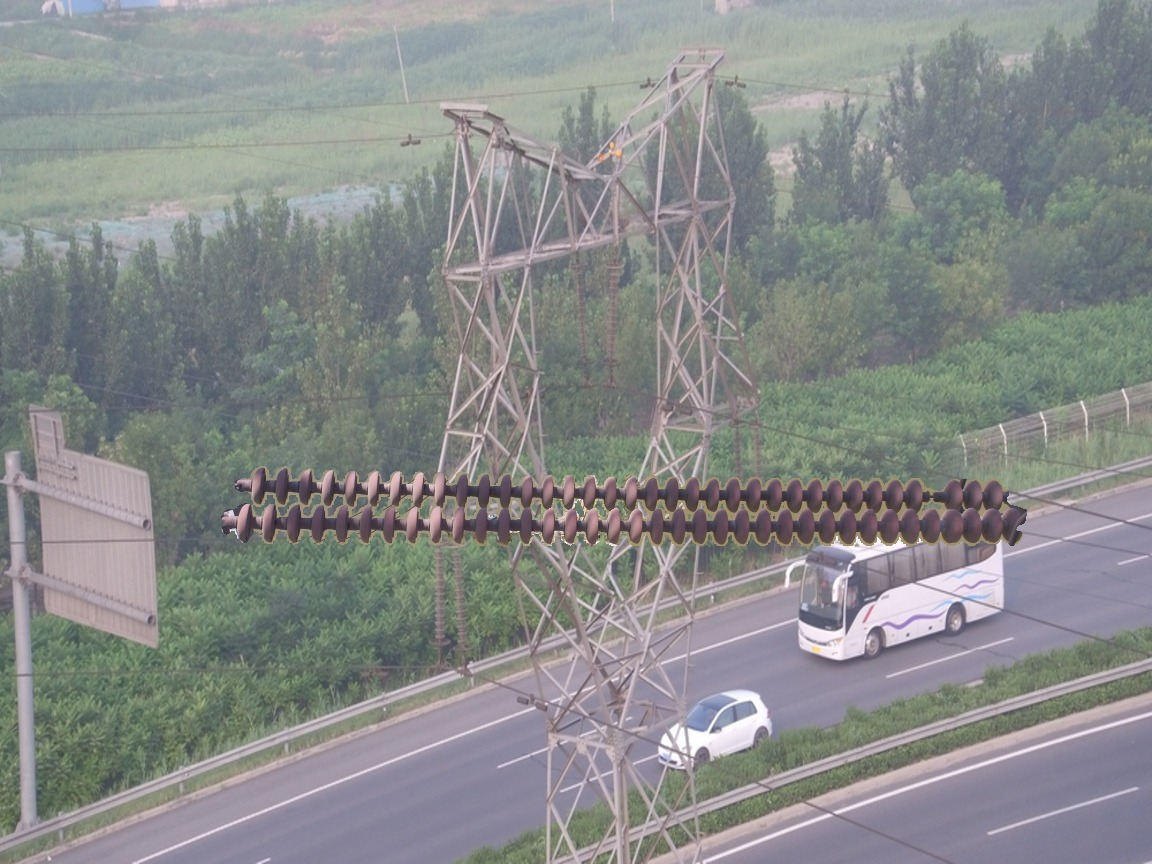defect: (904, 476, 967, 512)
